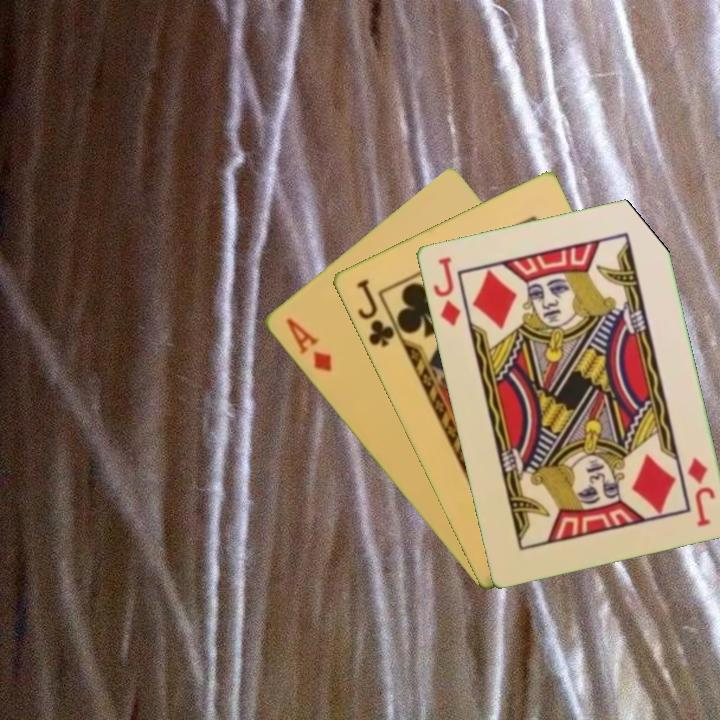Ad: (281, 314, 335, 375)
Jc: (352, 275, 397, 350)
Jd: (429, 253, 464, 329), (683, 453, 718, 529)
